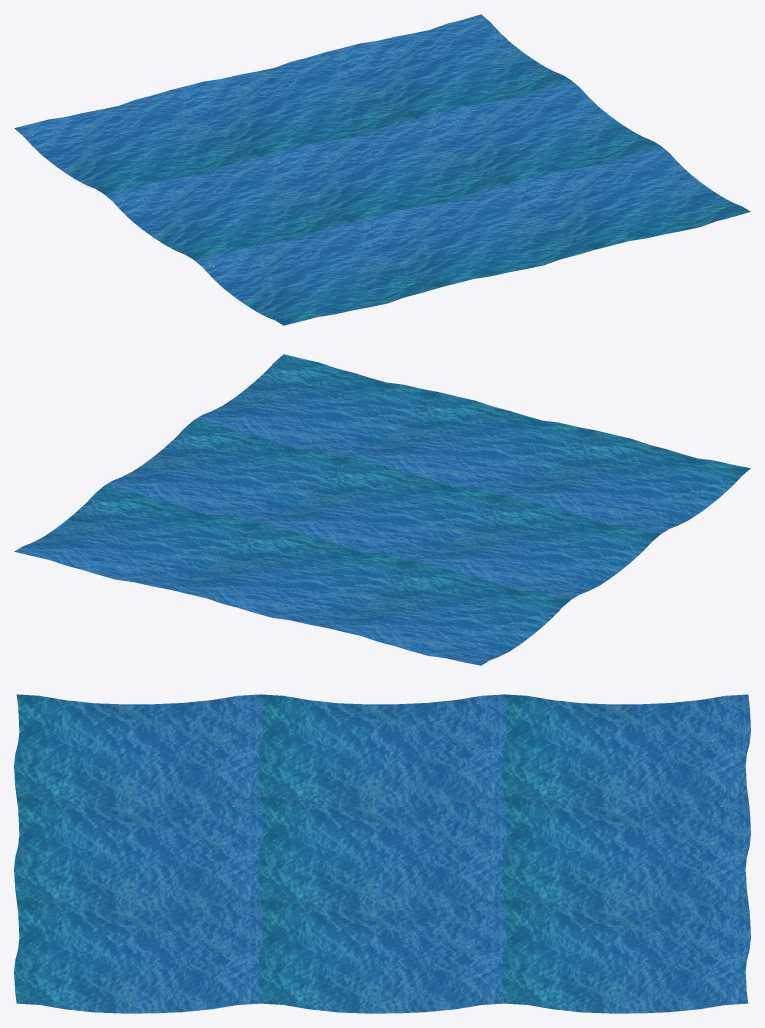
The model's file is ocean_000028.obj.
3 renders of one model, top to bottom at view 1: azimuth 30°, elevation 25°; view 2: azimuth 150°, elevation 25°; view 3: azimuth 270°, elevation 25°, orthographic. The views are drawn at different scales.
Parts seen in each view (by area): view 1: Ocean_Plan.001; view 2: Ocean_Plan.001; view 3: Ocean_Plan.001.
Boxes of the visible parts, x1,y1,x2,y2 form: Ocean_Plan.001: [14, 14, 750, 325]; Ocean_Plan.001: [14, 354, 750, 665]; Ocean_Plan.001: [14, 694, 750, 1013].
Size of the model in its own units: 109087 by 1621 by 109768.
Materials: 1 (1 with a texture image).
